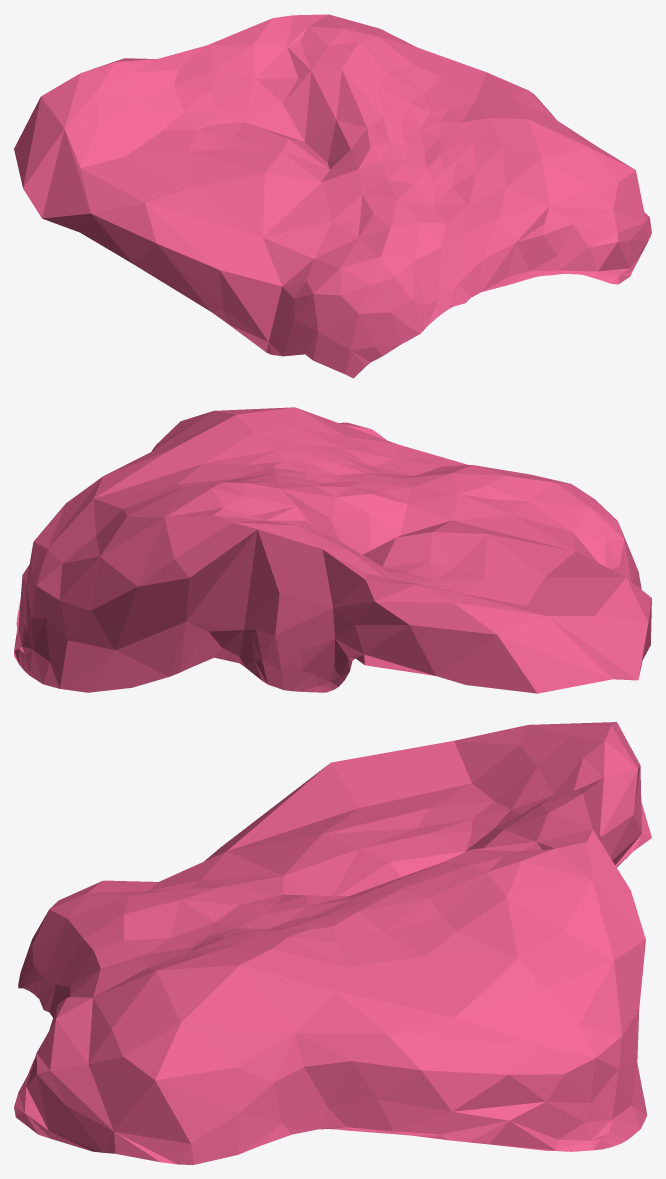
Rendered from ground_005.fbx.
3 views of the same model, one above another, from view 1: azimuth 30°, elevation 25°; view 2: azimuth 150°, elevation 25°; view 3: azimuth 270°, elevation 25° (orthographic). The views are drawn at different scales.
Parts seen in each view (by area): view 1: ground.005; view 2: ground.005; view 3: ground.005.
Boxes of the visible parts, x1=… form: ground.005: x1=14, y1=14, x2=651, y2=378; ground.005: x1=14, y1=407, x2=651, y2=693; ground.005: x1=14, y1=722, x2=651, y2=1164.
Size of the model in its own units: 2305 by 803 by 1858.
Materials: 1 (1 with a texture image).
